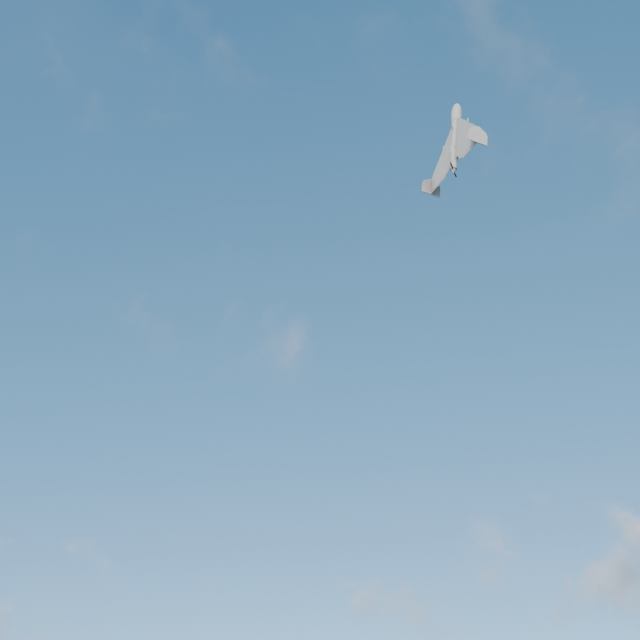shahed: (422, 103, 488, 197)
